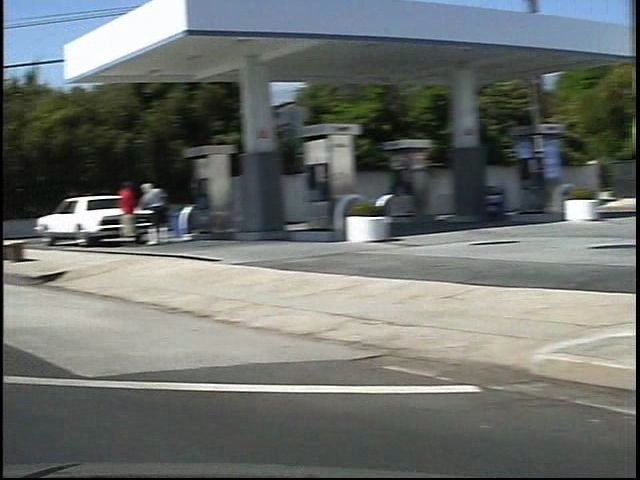person: (113, 173, 151, 241), (94, 176, 119, 247)
